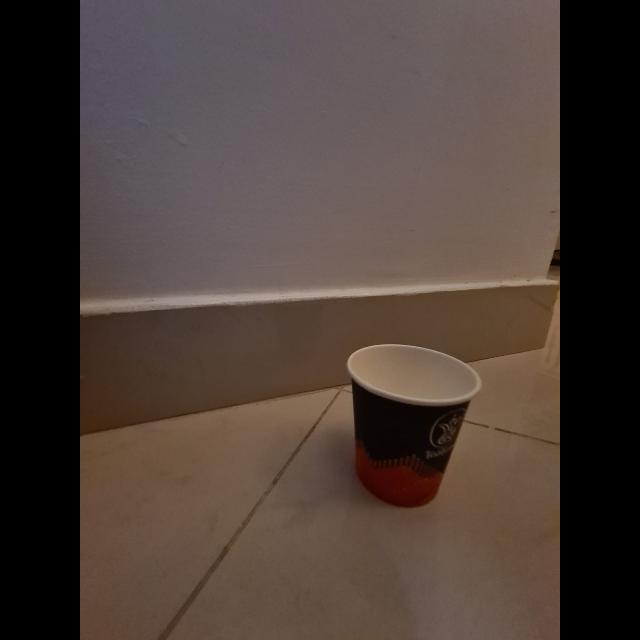trash: (338, 344, 488, 508)
